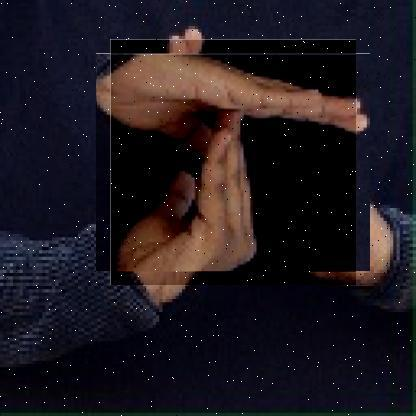Z: (110, 39, 357, 286)
